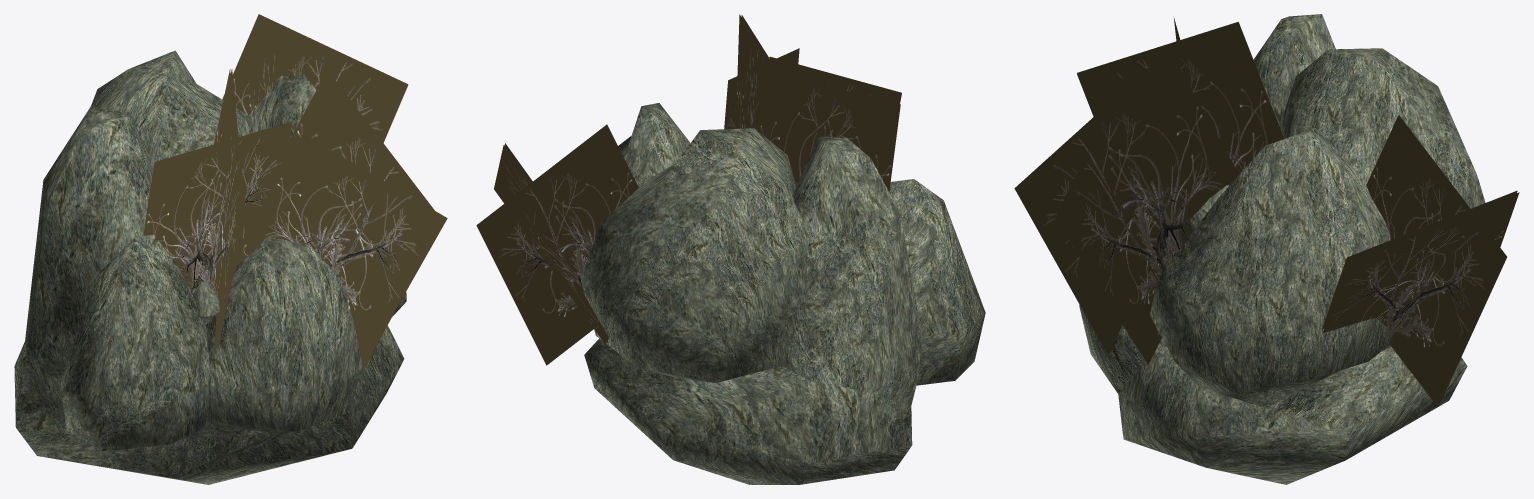
Rendered from poi_all_lair_rocks_large_l1.fbx.
3 views of the same model, side by side, from view 1: azimuth 30°, elevation 25°; view 2: azimuth 150°, elevation 25°; view 3: azimuth 270°, elevation 25° (orthographic). The views are drawn at different scales.
Parts seen in each view (by area): view 1: mesh_node; view 2: mesh_node; view 3: mesh_node.
Part boxes in pixels (x1,y1,x2,y2): mesh_node: (14, 14, 447, 484); mesh_node: (476, 14, 985, 484); mesh_node: (1014, 14, 1519, 484).
Size of the model in its own units: 6.28 by 6.34 by 6.18.
